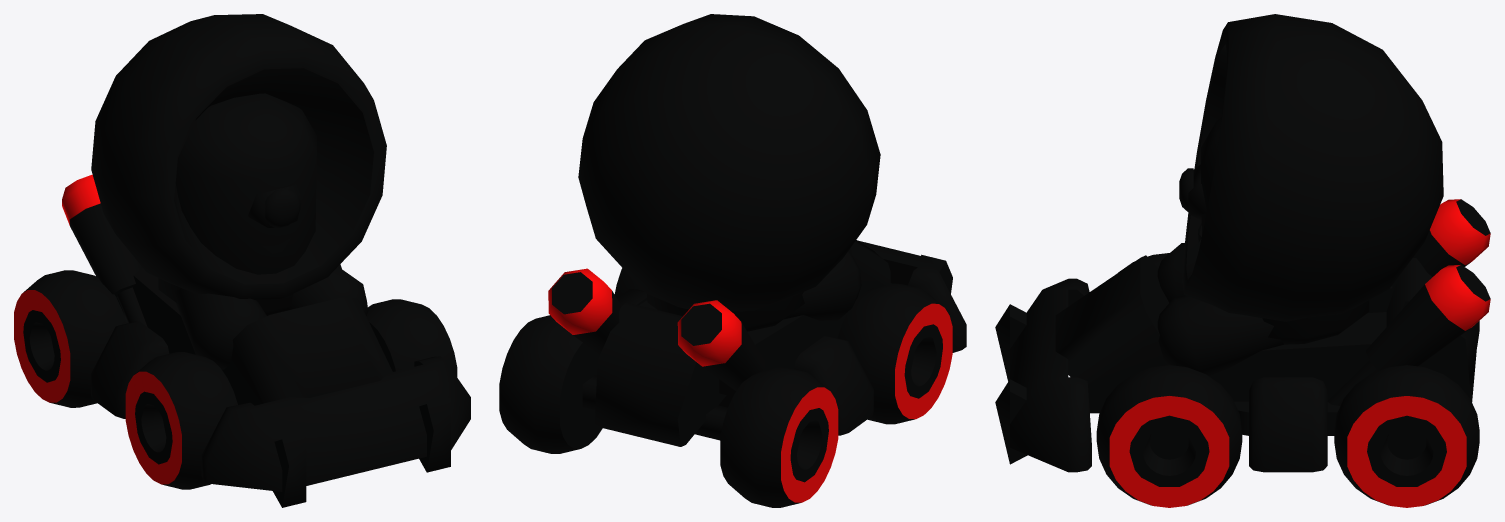
File: kart-oodi.glb
3 renders of one model, left to right at view 1: azimuth 30°, elevation 25°; view 2: azimuth 150°, elevation 25°; view 3: azimuth 270°, elevation 25°, orthographic. The views are drawn at different scales.
Parts seen in each view (by area): view 1: character, kart-oodi, wheel-back-right, wheel-front-right, wheel-front-left; view 2: character, kart-oodi, wheel-back-right, wheel-front-right, wheel-back-left; view 3: character, kart-oodi, wheel-front-left, wheel-back-left.
Part boxes in pixels (x1,y1,x2,y2): character: (91, 14, 386, 369); kart-oodi: (62, 174, 470, 507); wheel-back-right: (14, 270, 126, 407); wheel-front-right: (125, 352, 237, 489); wheel-front-left: (366, 299, 457, 376); character: (578, 14, 880, 331); kart-oodi: (548, 240, 966, 446); wheel-back-right: (720, 367, 838, 507); wheel-front-right: (838, 283, 952, 424); wheel-back-left: (499, 315, 602, 453); character: (1157, 14, 1443, 375); kart-oodi: (995, 199, 1490, 472); wheel-front-left: (1096, 365, 1242, 507); wheel-back-left: (1334, 365, 1479, 507).
Size of the model in its own units: 0.9744 by 1.33 by 1.43.
Materials: 1 (1 with a texture image).
